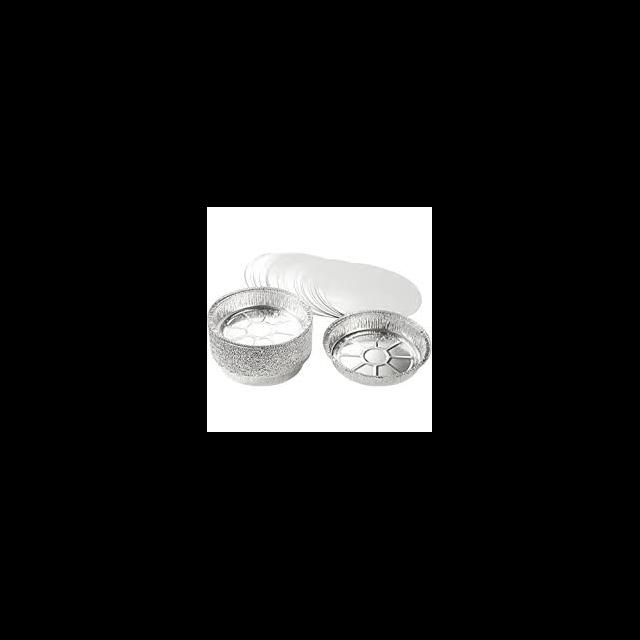metal: (208, 288, 310, 386), (322, 310, 430, 386), (324, 262, 420, 316), (247, 253, 310, 296), (302, 258, 341, 316), (268, 256, 318, 300)
